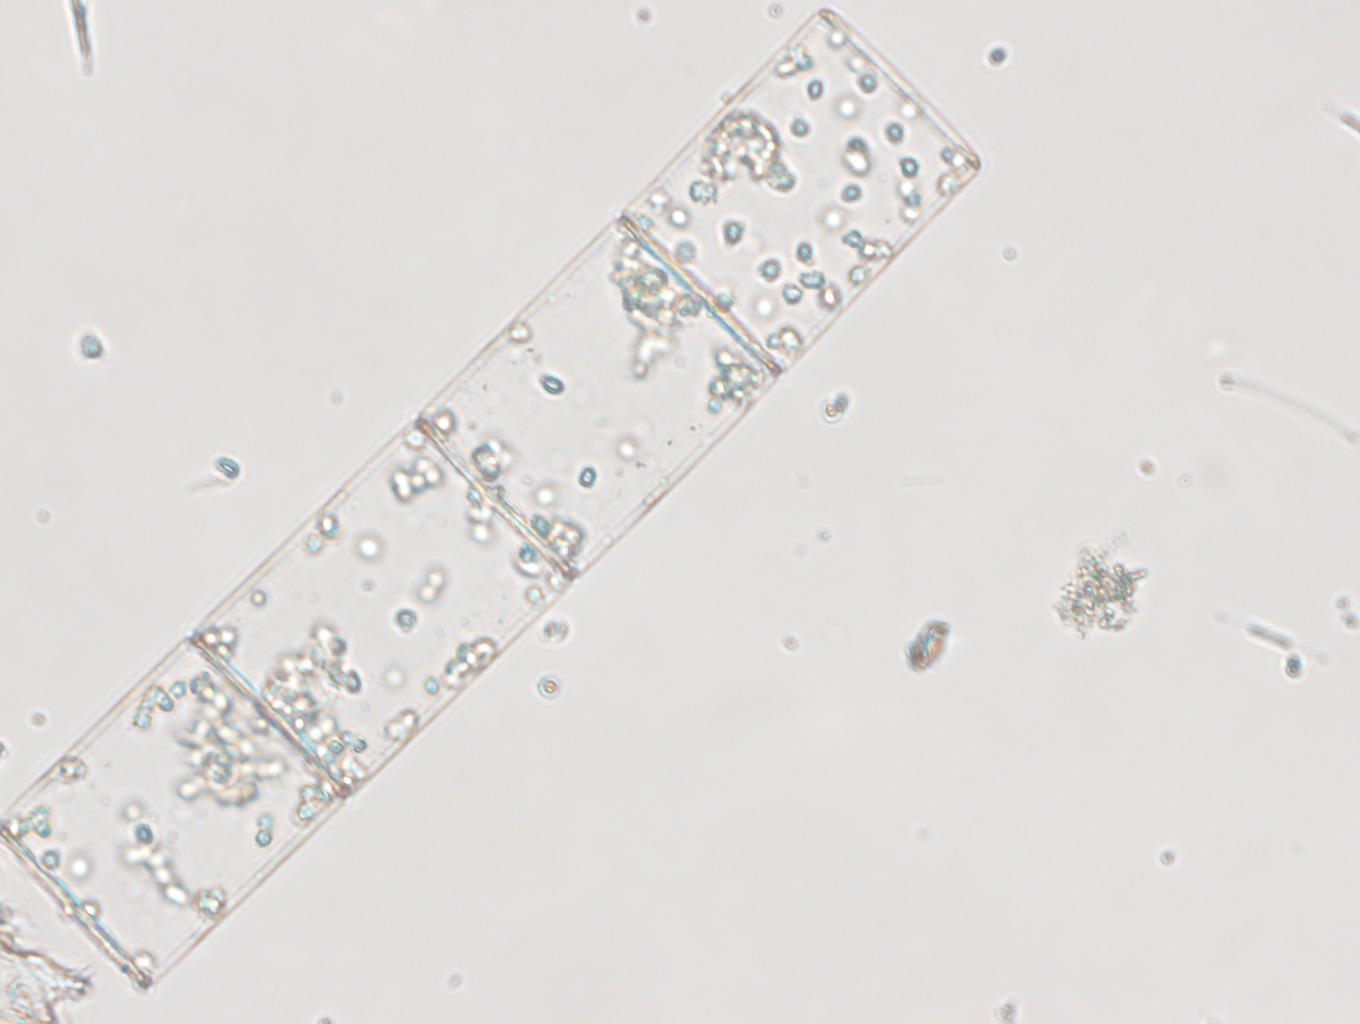guinardia flaccida: (1, 8, 980, 990)
